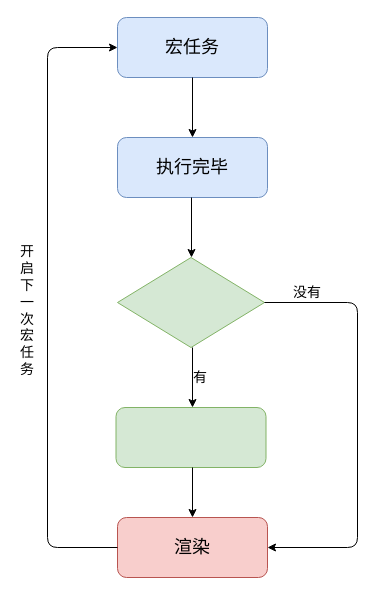
Image size: 383x595. Some labels were removed from this diagram. Here are the shapes that lost their labels. From the top down, the box of each, then its label:
(116, 256, 264, 348): 是否有微任务
(115, 406, 266, 468): 执行所有微任务
